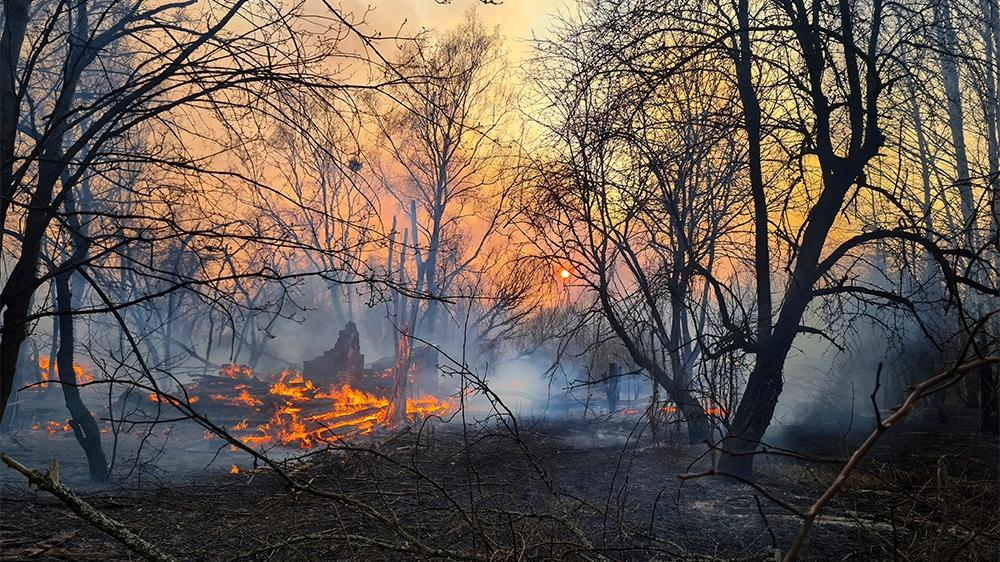fire: (222, 363, 393, 447), (404, 392, 457, 416), (25, 350, 59, 387), (71, 358, 93, 381)
